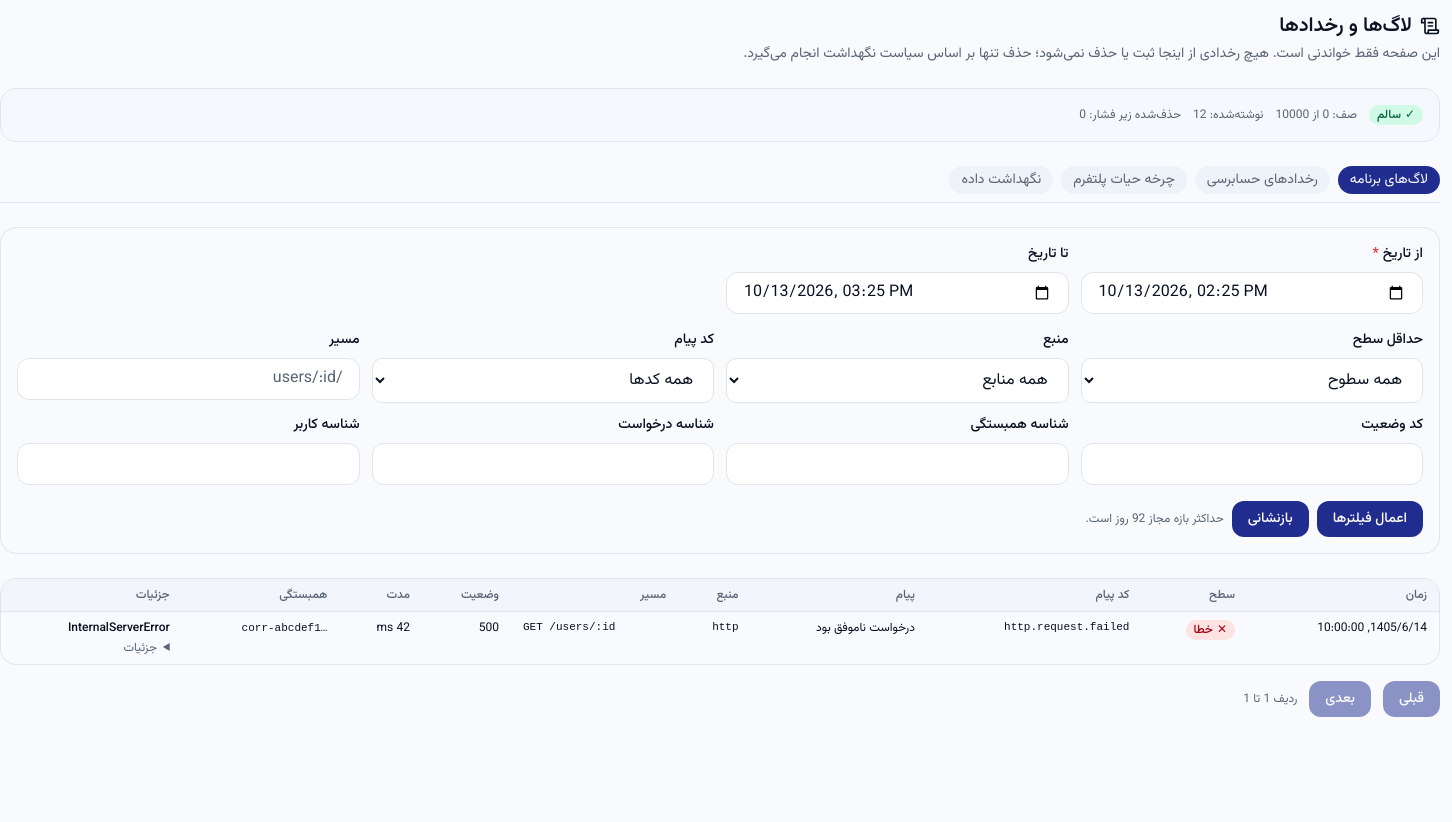
it: CoreObservabilityView — paging without a total › offers no paging controls on the retention tab, which has no window
Click the button "نگهداشت داده".
click(1001, 180)  # box x1=949 y1=166 x2=1053 y2=194
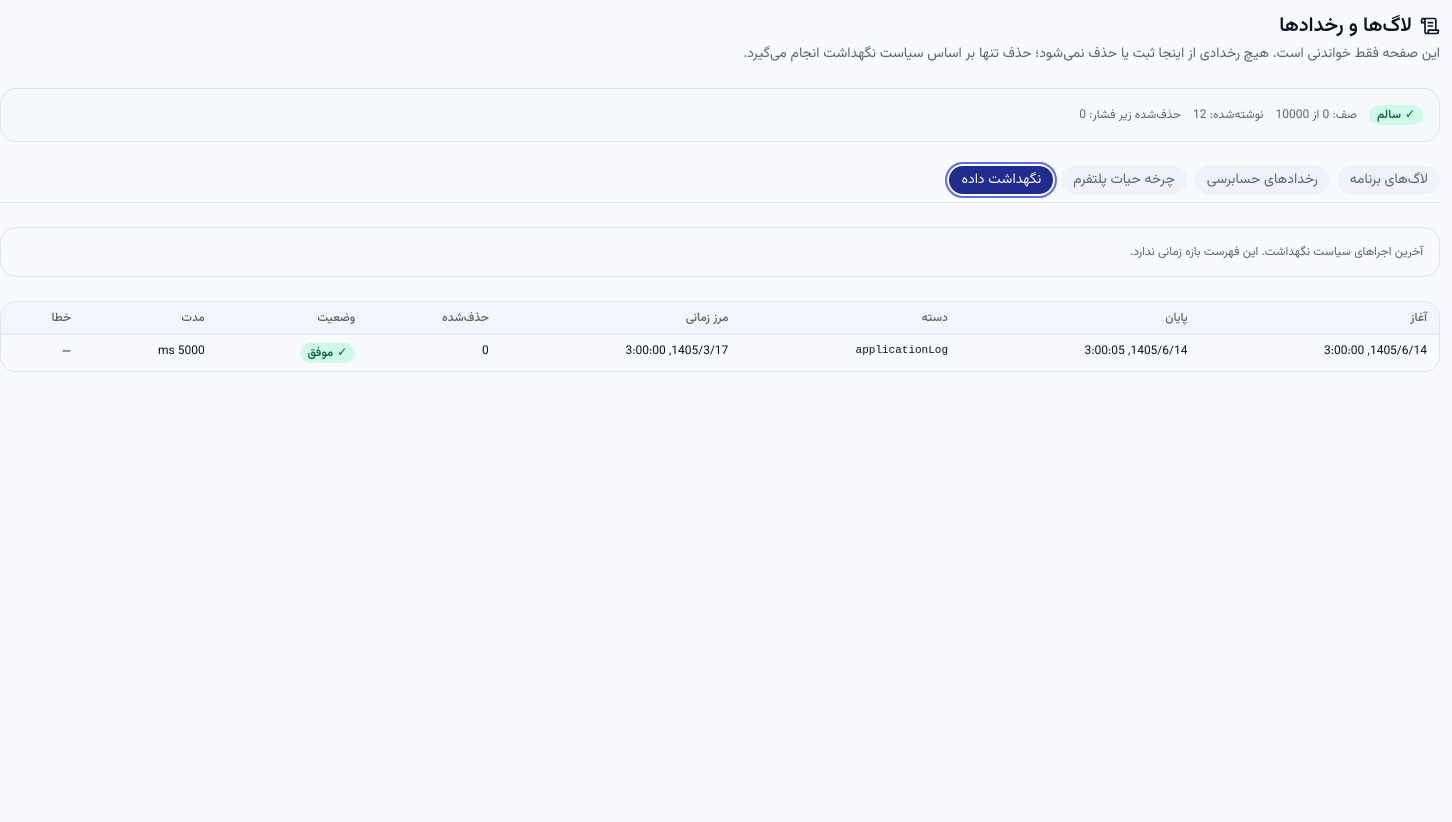
Result: the button "بعدی" is gone
Result: the text "موفق" is shown at x1=308 y1=345 x2=333 y2=361
